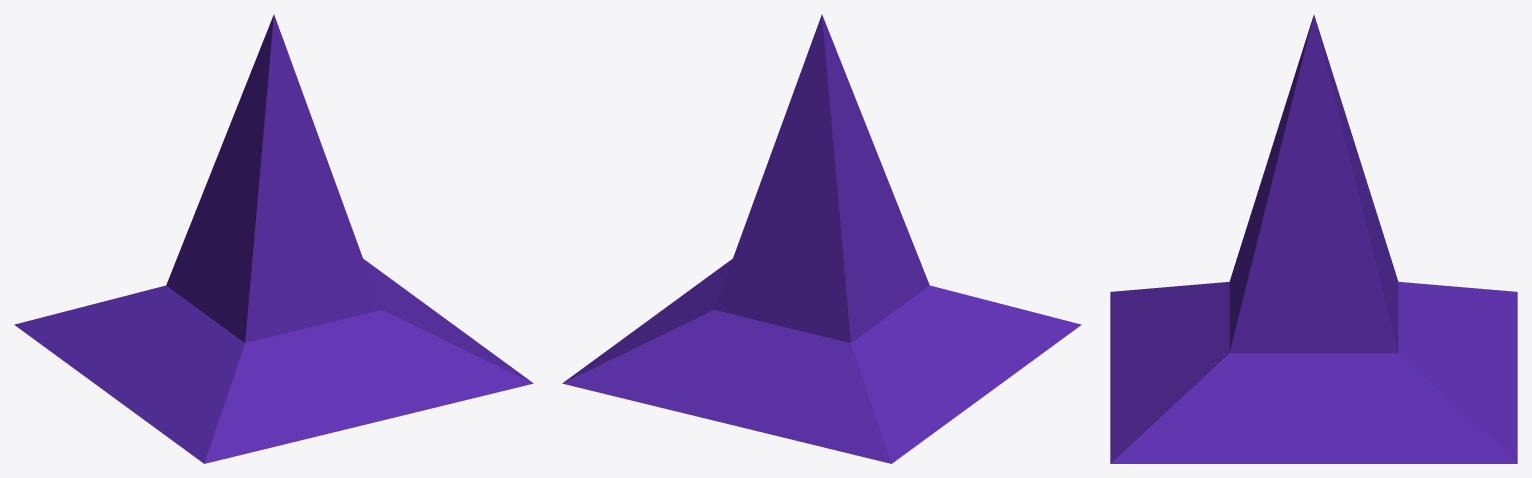
The model's file is wizard_hat.glb.
3 views of the same model, side by side, from view 1: azimuth 30°, elevation 25°; view 2: azimuth 150°, elevation 25°; view 3: azimuth 270°, elevation 25° (orthographic). The views are drawn at different scales.
Parts seen in each view (by area): view 1: wizard_hat; view 2: wizard_hat; view 3: wizard_hat.
Part boxes in pixels (<box>): wizard_hat: <box>14,14,533,463</box>; wizard_hat: <box>562,14,1081,463</box>; wizard_hat: <box>1110,15,1517,463</box>.
Size of the model in its own units: 0.3273 by 0.3227 by 0.3273.
